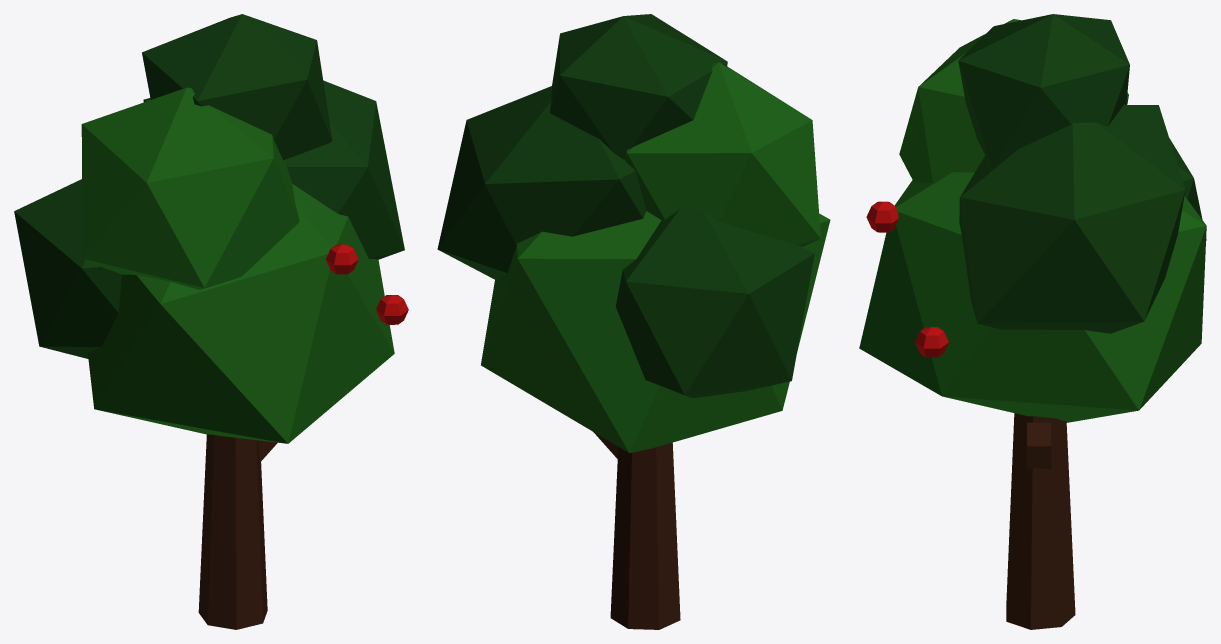
Rendered from Tree.obj.
The picture shows the model from 3 angles, left to right: view 1: azimuth 30°, elevation 25°; view 2: azimuth 150°, elevation 25°; view 3: azimuth 270°, elevation 25°; orthographic projection. The views are drawn at different scales.
Visible parts, largest first — view 1: Tree; view 2: Tree; view 3: Tree.
Part boxes in pixels (x1,y1,x2,y2): Tree: [14, 14, 408, 629]; Tree: [437, 14, 830, 629]; Tree: [859, 14, 1206, 629].
Bounding box in the file's own units: 2.25 × 3.87 × 2.
